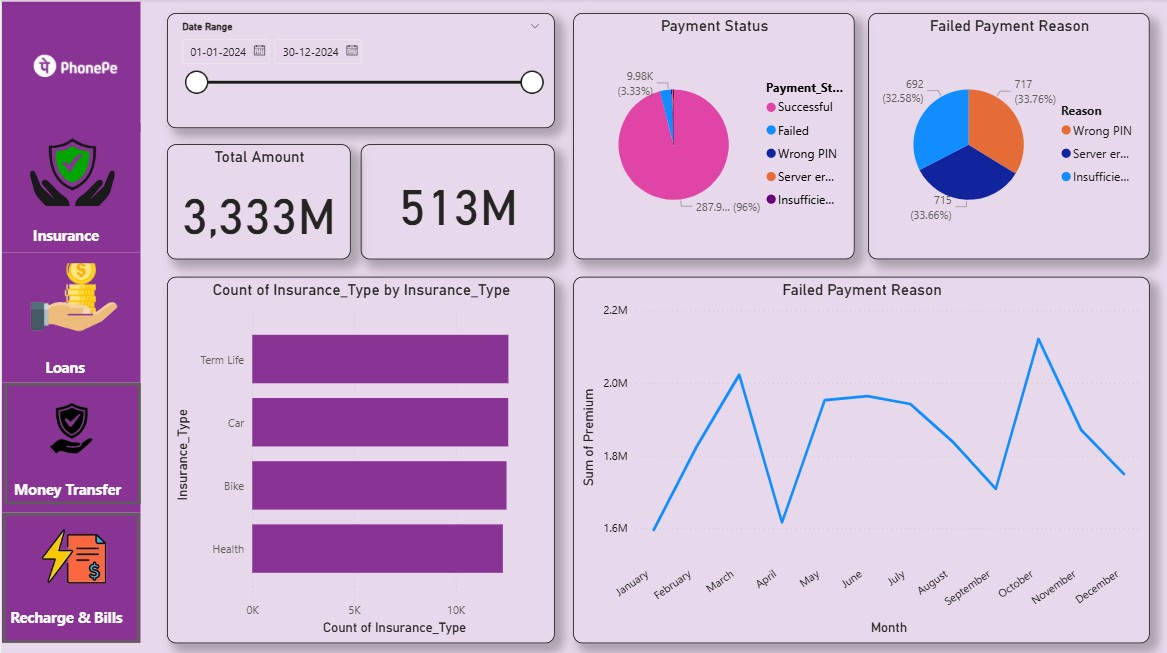

This screenshot's page, from the dashboard's own definition file:
{"tool":"powerbi","page":{"name":"Insurance","canvas":[1280,720],"ordinal":1},"visuals":[{"type":"slicer","fields":{"Values":["Insurance.Date"]},"box":[181.1,16.5,425.4,126.2],"z":0},{"type":"lineChart","title":"Failed Payment Reason","fields":{"Category":["Insurance.Date.Variation.Date Hierarchy.Month"],"Y":["Sum(Insurance.Premium)"]},"box":[627.1,306,632.6,402.1],"z":1000},{"type":"pieChart","title":"Failed Payment Reason","fields":{"Category":["Insurance.Reason"],"Y":["CountNonNull(Insurance.Reason)"]},"box":[950.9,16.5,308.7,270.3],"z":2000},{"type":"card","fields":{"Values":["Sum(Insurance.Premium)"]},"box":[181.1,160.5,425.4,126.2],"z":3000},{"type":"actionButton","box":[0,142.7,149.6,133.1],"z":4000},{"type":"actionButton","box":[1.4,139.2,149.6,133.1],"z":5000},{"type":"pieChart","title":"Payment Status","fields":{"Category":["All_Transactions.Payment_Status"],"Y":["CountNonNull(All_Transactions.Payment_Status)"]},"box":[627.1,16.5,308.7,270.3],"z":6000},{"type":"barChart","fields":{"Category":["Insurance.Insurance_Type"],"Y":["CountNonNull(Insurance.Insurance_Type)"]},"box":[181.1,306,425.4,402.1],"z":7000},{"type":"shape","box":[0,4.1,152.3,142.7],"z":8000},{"type":"shape","box":[0,137.3,152.3,142.7],"z":9000},{"type":"shape","box":[0,280,152.3,142.7],"z":10000},{"type":"shape","box":[0,422.7,152.3,142.7],"z":11000},{"type":"shape","box":[0,565.4,152.3,142.7],"z":12000},{"type":"image","box":[4.1,9.6,152.3,130.4],"z":13000},{"type":"image","box":[26.1,137.2,102.9,108.4],"z":14000},{"type":"image","box":[22,279.9,113.9,105.7],"z":15000},{"type":"image","box":[27.4,422.6,98.8,100.2],"z":16000},{"type":"image","box":[16.5,565.4,126.2,98.8],"z":17000},{"type":"textbox","box":[28.8,244.3,96.1,35.7],"z":18000},{"type":"textbox","box":[42.5,389.7,68.6,32.9],"z":19000},{"type":"textbox","box":[8.2,522.8,137.2,31.6],"z":20000},{"type":"textbox","box":[4.1,664.2,141.3,31.6],"z":21000},{"type":"actionButton","box":[2.7,422.6,149.6,133.1],"z":22000},{"type":"actionButton","box":[1.4,565.4,149.6,142.7],"z":23000}]}

Visuals, with their boxes on the page's 1280x720 design canvas (x1, y1, x2, y2). These are canvas units, not pixel positions in the 1167x653 screenshot, which may show the page scaled, cropped or inside an application window:
slicer - Insurance.Date: 181:16:606:143
"Failed Payment Reason" lineChart: 627:306:1260:708
"Failed Payment Reason" pieChart: 951:16:1260:287
card - Sum(Insurance.Premium): 181:160:606:287
actionButton: 0:143:150:276
actionButton: 1:139:151:272
"Payment Status" pieChart: 627:16:936:287
barChart - Insurance.Insurance_Type x CountNonNull(Insurance.Insurance_Type): 181:306:606:708
shape: 0:4:152:147
shape: 0:137:152:280
shape: 0:280:152:423
shape: 0:423:152:565
shape: 0:565:152:708
image: 4:10:156:140
image: 26:137:129:246
image: 22:280:136:386
image: 27:423:126:523
image: 16:565:143:664
textbox: 29:244:125:280
textbox: 42:390:111:423
textbox: 8:523:145:554
textbox: 4:664:145:696
actionButton: 3:423:152:556
actionButton: 1:565:151:708
